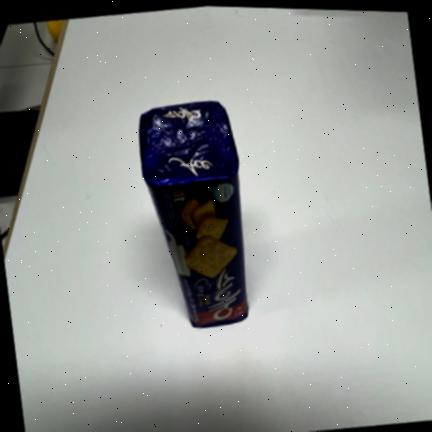cracker_ace: (138, 101, 249, 327)
